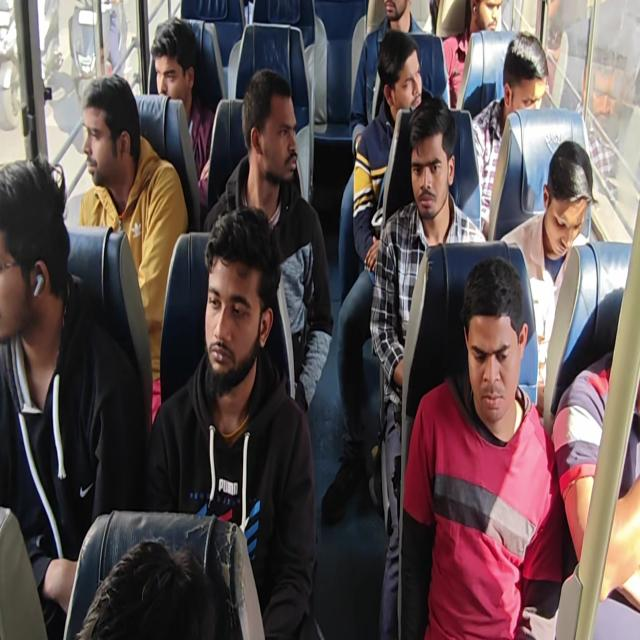person: (1, 2, 638, 638), (144, 206, 321, 638), (0, 155, 146, 638), (368, 97, 488, 638), (398, 256, 564, 638), (320, 28, 432, 523), (202, 68, 334, 412), (77, 73, 189, 424), (499, 139, 597, 415), (552, 350, 639, 602), (352, 29, 433, 271), (471, 30, 549, 236), (76, 537, 217, 639), (349, 0, 428, 159), (150, 17, 215, 206), (442, 0, 502, 108)
